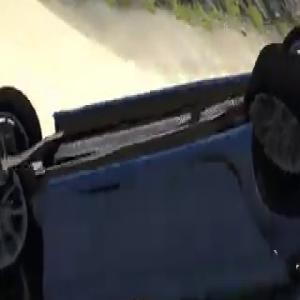severe: (0, 16, 300, 300)
